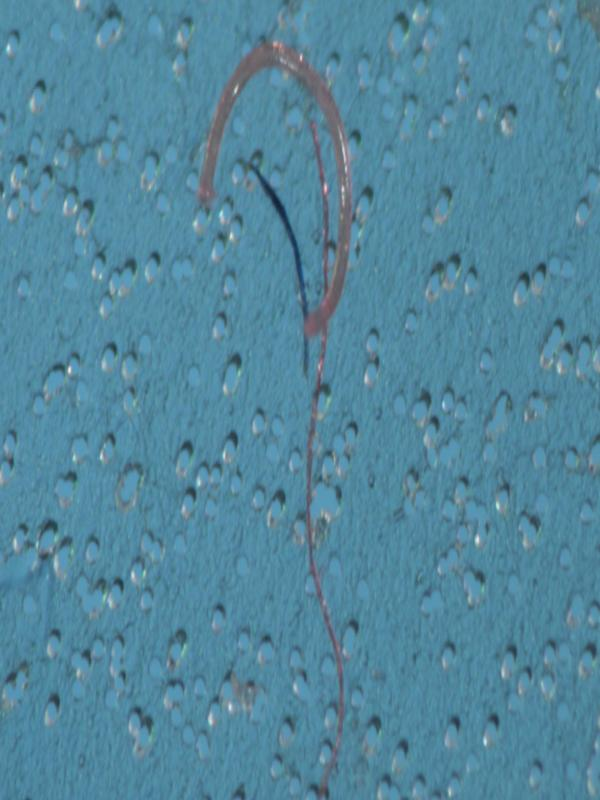microplastic: (1, 2, 599, 799), (195, 38, 356, 798)
